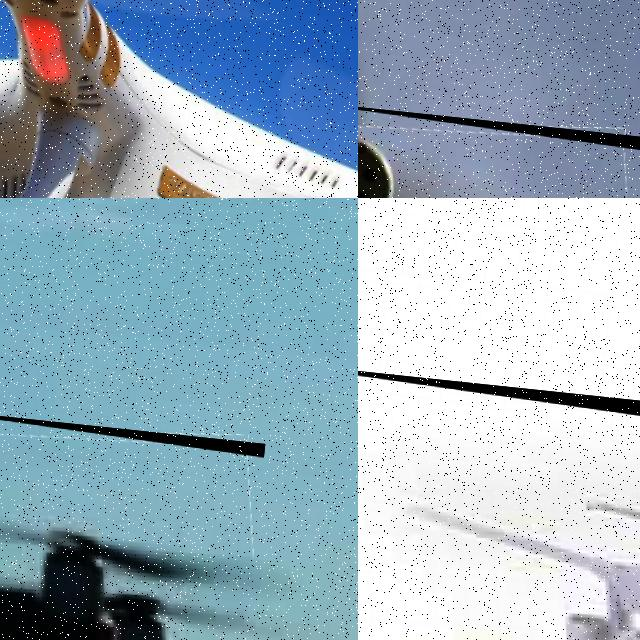drone: (358, 358, 640, 640), (0, 0, 358, 198), (0, 405, 264, 640), (358, 99, 640, 198)
